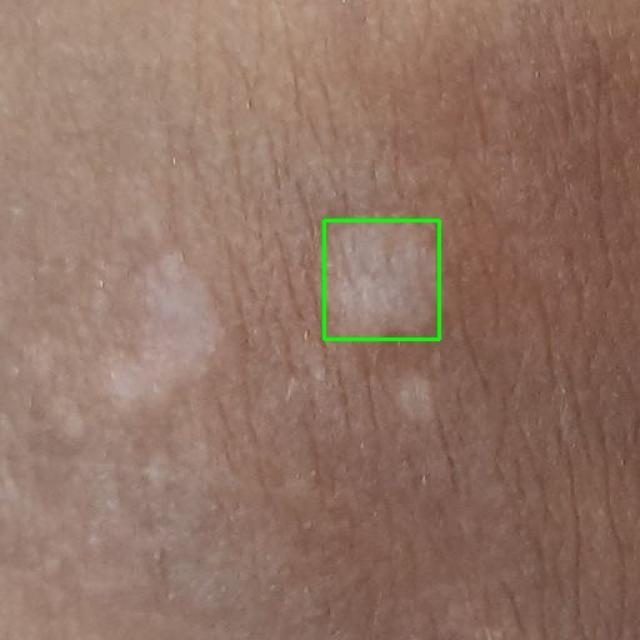Eczema: (324, 220, 439, 339)
